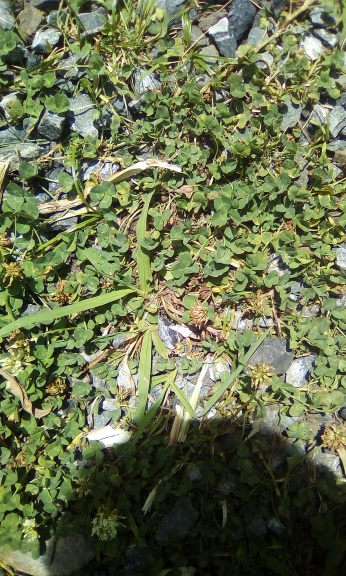4leaf: (170, 251, 199, 287)
